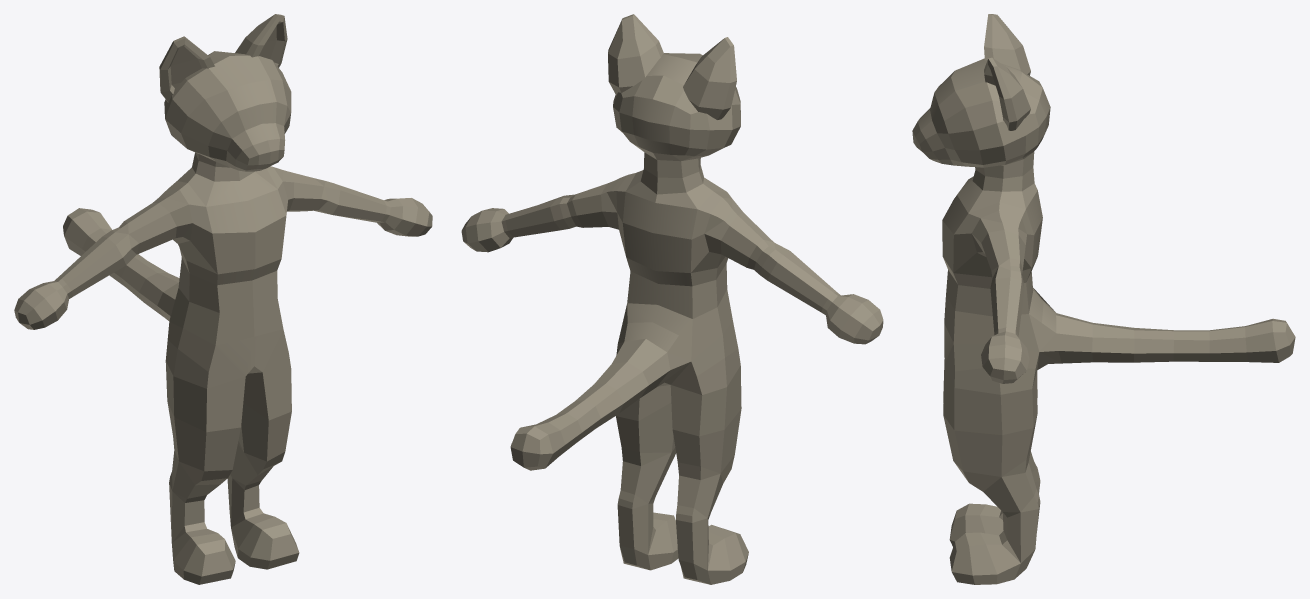
File: catmodel.fbx
3 views of the same model, side by side, from view 1: azimuth 30°, elevation 25°; view 2: azimuth 150°, elevation 25°; view 3: azimuth 270°, elevation 25° (orthographic). The views are drawn at different scales.
Visible parts, largest first — view 1: cat_geo; view 2: cat_geo; view 3: cat_geo.
Part boxes in pixels (x1,y1,x2,y2): cat_geo: (14,14,432,584); cat_geo: (461,14,883,584); cat_geo: (912,14,1295,584).
Size of the model in its own units: 19.55 by 24.27 by 16.12.
